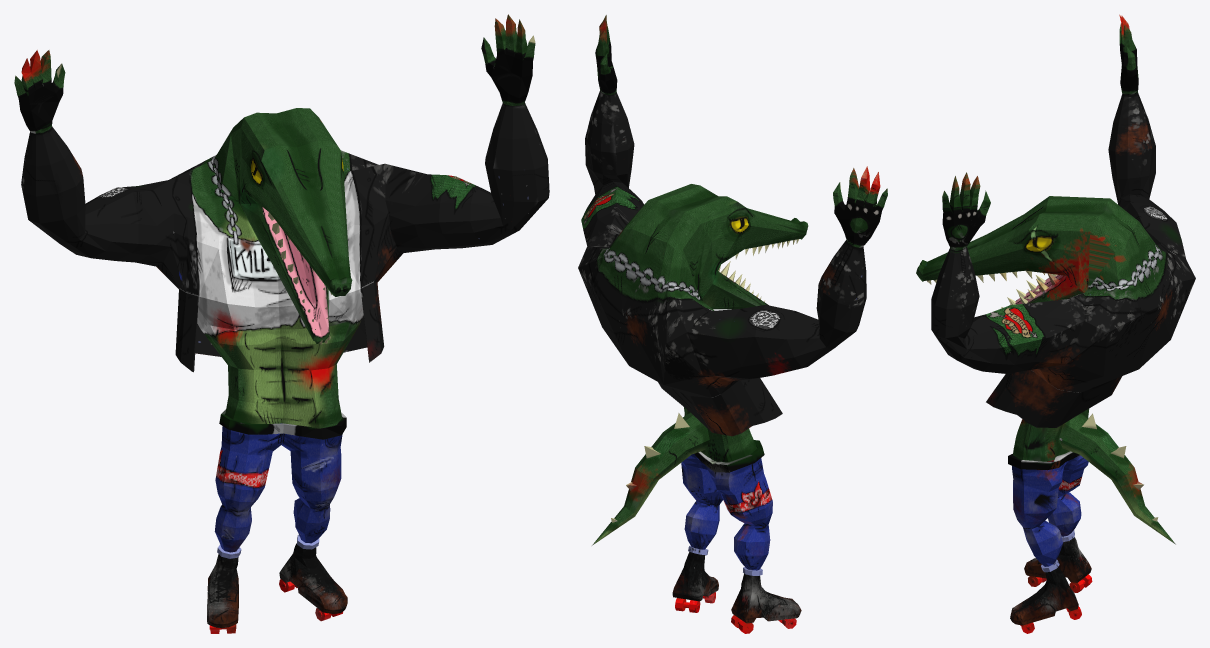
Rendered from cocodrilaBonesSelect_000051.obj.
3 renders of one model, left to right at view 1: azimuth 30°, elevation 25°; view 2: azimuth 150°, elevation 25°; view 3: azimuth 270°, elevation 25°, orthographic. The views are drawn at different scales.
Visible parts, largest first — view 1: Crocodile.002_Cylinder.002; view 2: Crocodile.002_Cylinder.002; view 3: Crocodile.002_Cylinder.002.
Boxes of the visible parts, box(x1,y1,x2,y2) form: Crocodile.002_Cylinder.002: box(14, 14, 549, 633); Crocodile.002_Cylinder.002: box(578, 15, 887, 633); Crocodile.002_Cylinder.002: box(916, 14, 1195, 633).
Size of the model in its own units: 6.22 by 8.12 by 3.97.
